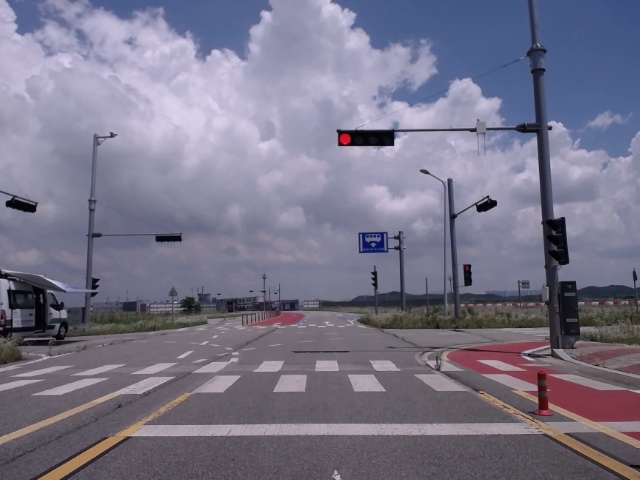red_4: (338, 133, 394, 147)
